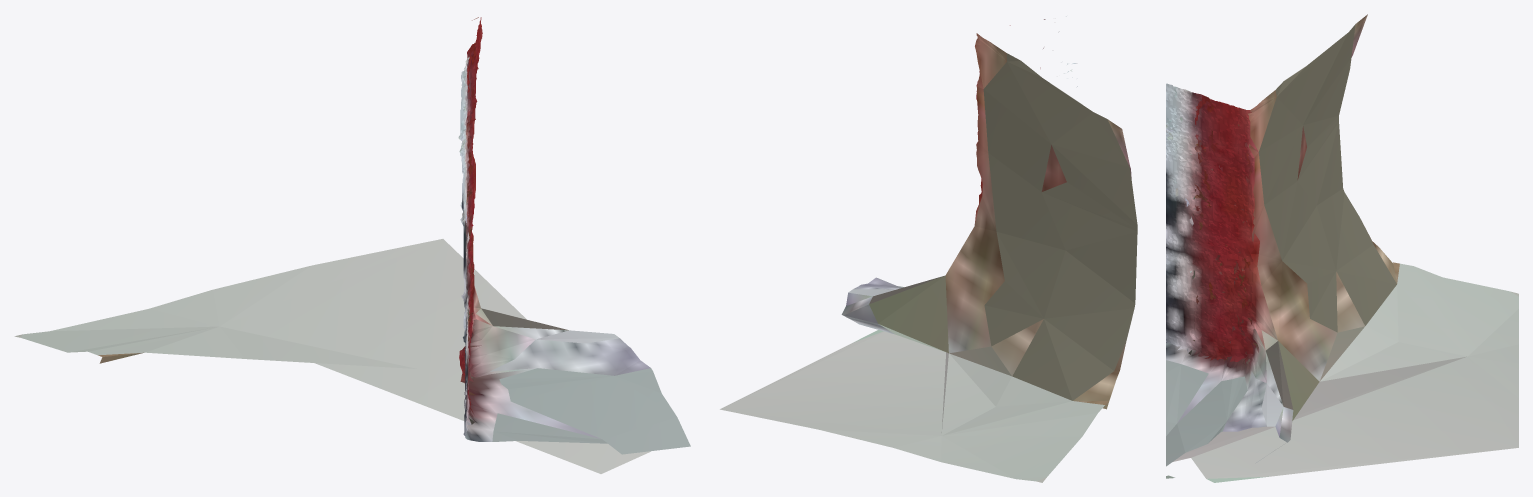
The picture shows the model from 3 angles, left to right: view 1: azimuth 30°, elevation 25°; view 2: azimuth 150°, elevation 25°; view 3: azimuth 270°, elevation 25°; orthographic projection. The views are drawn at different scales.
Size of the model in its own units: 0.4915 by 0.4915 by 0.4915.
Materials: 1 (1 with a texture image).
